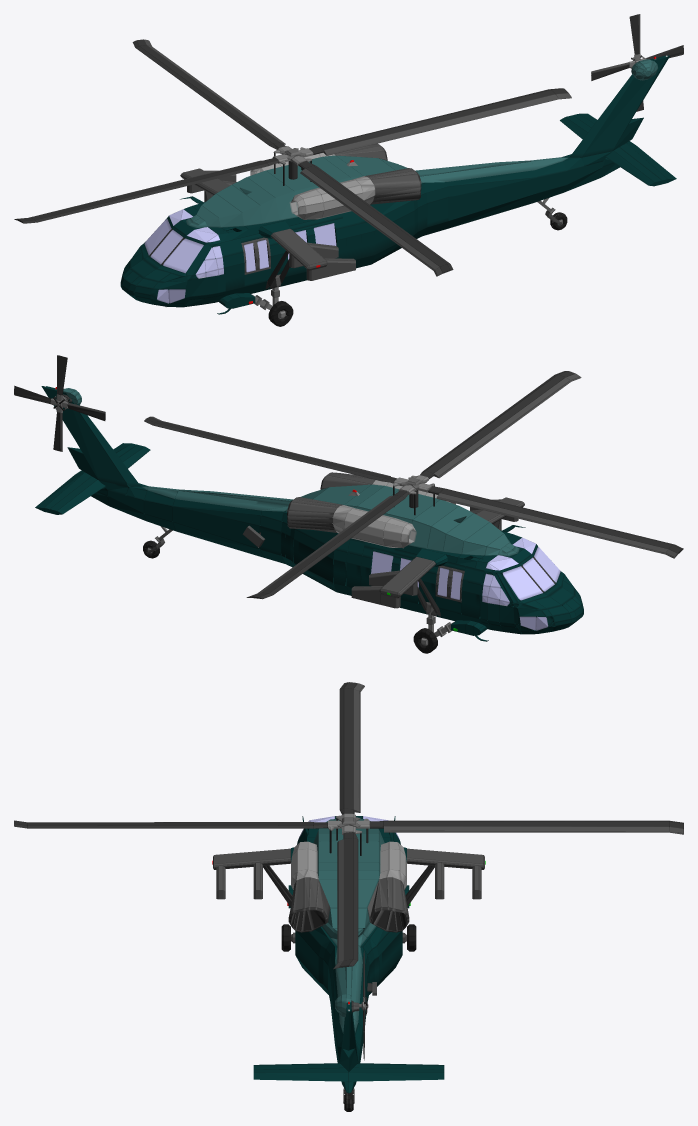
File: phoenixhawk.obj.obj
3 views of the same model, one above another, from view 1: azimuth 30°, elevation 25°; view 2: azimuth 150°, elevation 25°; view 3: azimuth 270°, elevation 25° (orthographic). The views are drawn at different scales.
Parts seen in each view (by area): view 1: bodyModel, heliMainRotorModels[0], tailDoorOpenModel, leftWingPos1Model, noseModel, tailModel, leftWingModel, heliTailRotorModels[0], bodyDoorCloseModel, pitchFlapLeftWingModel, rightWingPos1Model, tailDoorCloseModel (+2 smaller); view 2: bodyModel, heliMainRotorModels[0], tailDoorCloseModel, rightWingPos1Model, noseModel, tailModel, rightWingModel, bodyDoorOpenModel, heliTailRotorModels[0], pitchFlapRightWingModel, tailDoorOpenModel, leftWingPos1Model (+1 smaller); view 3: heliMainRotorModels[0], bodyModel, tailModel, tailDoorCloseModel, tailDoorOpenModel, leftWingPos1Model, rightWingPos1Model.
Boxes of the visible parts, box(x1,y1,x2,y2) form: bodyModel: box(120, 55, 669, 314); heliMainRotorModels[0]: box(14, 39, 571, 276); tailDoorOpenModel: box(291, 168, 421, 219); leftWingPos1Model: box(258, 220, 355, 288); noseModel: box(144, 209, 219, 303); tailModel: box(560, 113, 676, 186); leftWingModel: box(279, 218, 346, 286); heliTailRotorModels[0]: box(591, 14, 683, 111); bodyDoorCloseModel: box(189, 243, 225, 299); pitchFlapLeftWingModel: box(241, 237, 270, 274); rightWingPos1Model: box(180, 168, 236, 201); tailDoorCloseModel: box(250, 143, 387, 175); bodyModel: box(41, 386, 583, 641); heliMainRotorModels[0]: box(144, 371, 683, 599); tailDoorCloseModel: box(287, 497, 415, 548); rightWingPos1Model: box(351, 549, 447, 616); noseModel: box(486, 537, 560, 630); tailModel: box(35, 443, 150, 514); rightWingModel: box(361, 546, 426, 614); bodyDoorOpenModel: box(480, 556, 534, 627); heliTailRotorModels[0]: box(14, 355, 105, 451); pitchFlapRightWingModel: box(435, 565, 464, 602); tailDoorOpenModel: box(320, 472, 455, 504); leftWingPos1Model: box(470, 497, 524, 530); heliMainRotorModels[0]: box(14, 682, 683, 969); bodyModel: box(288, 816, 409, 1103); tailModel: box(253, 1063, 444, 1081); tailDoorCloseModel: box(367, 841, 409, 932); tailDoorOpenModel: box(288, 841, 330, 932); leftWingPos1Model: box(213, 847, 294, 906); rightWingPos1Model: box(403, 847, 484, 906).
Size of the model in its own units: 22.19 by 5.97 by 18.
Materials: 1 (1 with a texture image).
